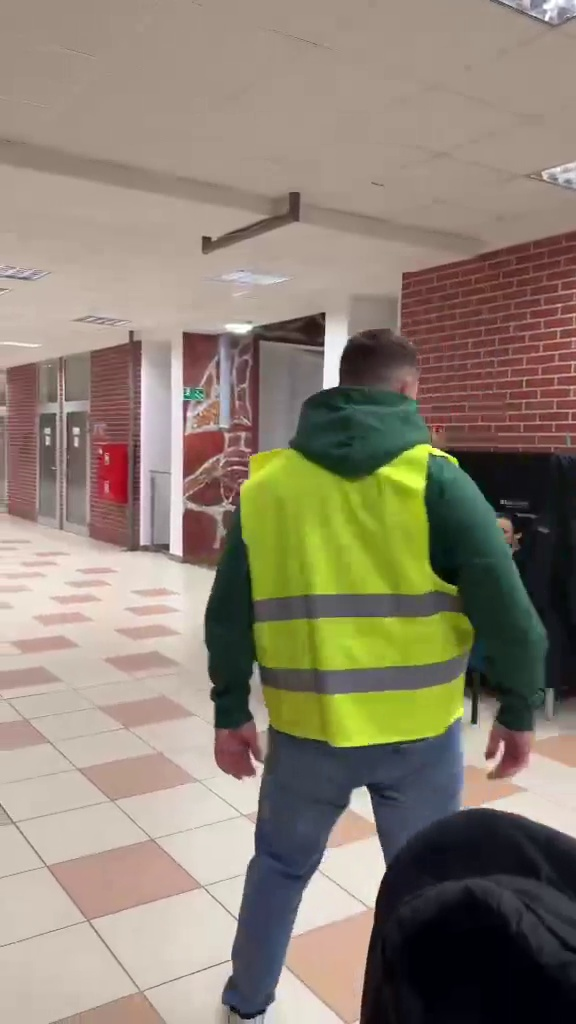vest: (209, 312, 561, 1014)
